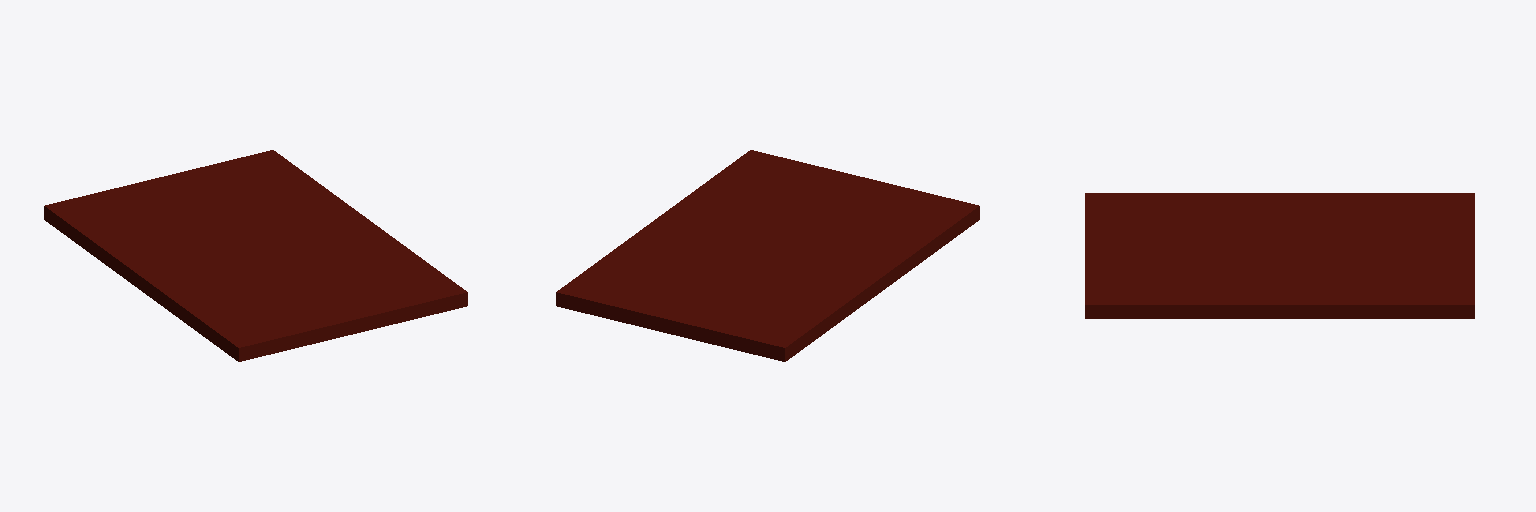
Rendered from table.obj.
The picture shows the model from 3 angles: view 1: azimuth 30°, elevation 25°; view 2: azimuth 150°, elevation 25°; view 3: azimuth 270°, elevation 25°; orthographic projection.
Parts seen in each view (by area): view 1: mergedBlocks; view 2: mergedBlocks; view 3: mergedBlocks.
Boxes of the visible parts, box(x1,y1,x2,y2) form: mergedBlocks: box(44, 150, 467, 361); mergedBlocks: box(556, 150, 979, 361); mergedBlocks: box(1085, 193, 1474, 318).
Size of the model in its own units: 17 by 1 by 25.